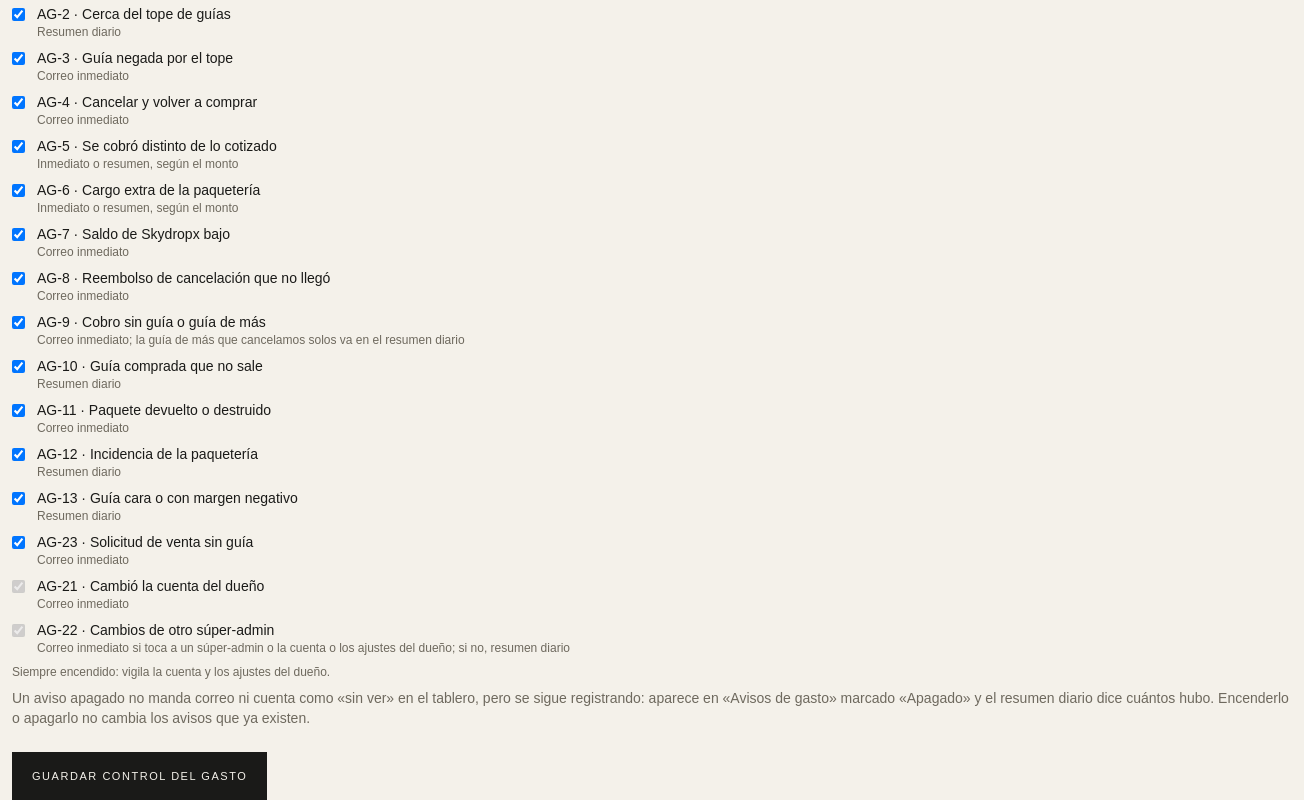
it: PS-164 (pantalla) · los diales del dueño, deshabilitados para los demás; el `403` se pinta por `keys` › `403 OWNER_ONLY_SETTING {keys}` ⇒ «No se guardó nada: solo el dueño puede cambiar …» con los campos de sus keys (⛔ nunca el `message`)
(page scrolled)
Click the button "Guardar control del gasto".
click(140, 776)  # box left=12, top=752, right=267, bottom=799
(page scrolled)
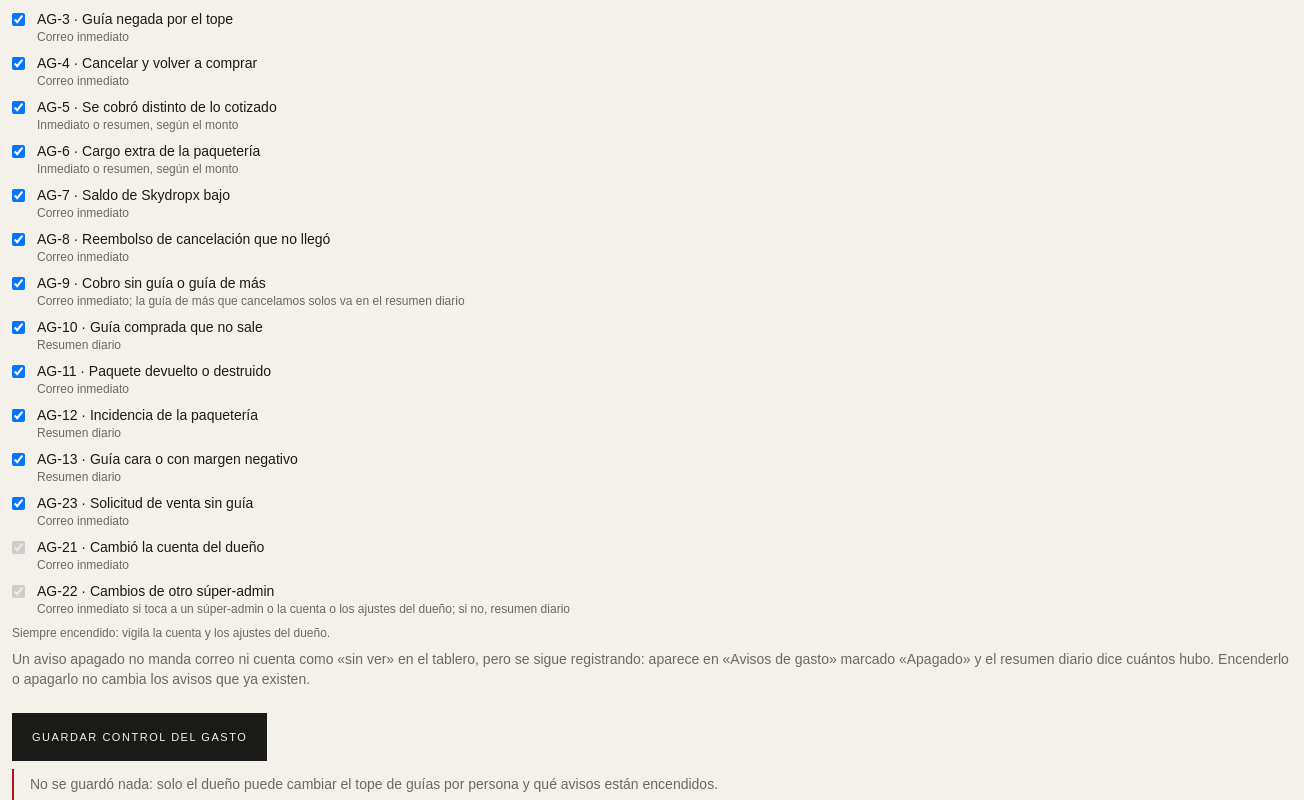
Expected: the text "No se guardó nada: solo el dueño puede cambiar el tope de guías por persona y qué avisos están encendidos." is shown, left=30, top=776, right=718, bottom=792
